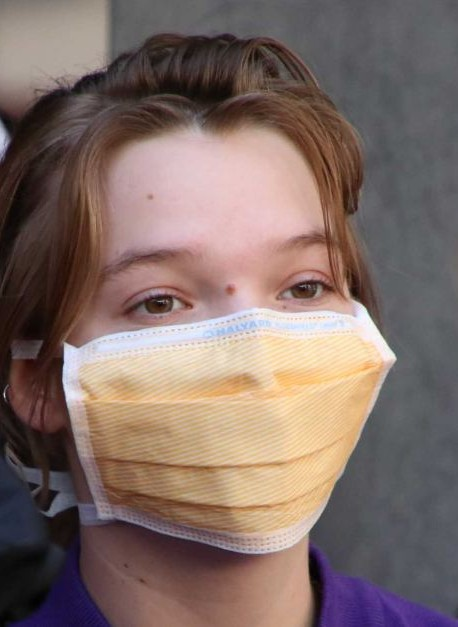with_mask: (49, 145, 397, 562)
